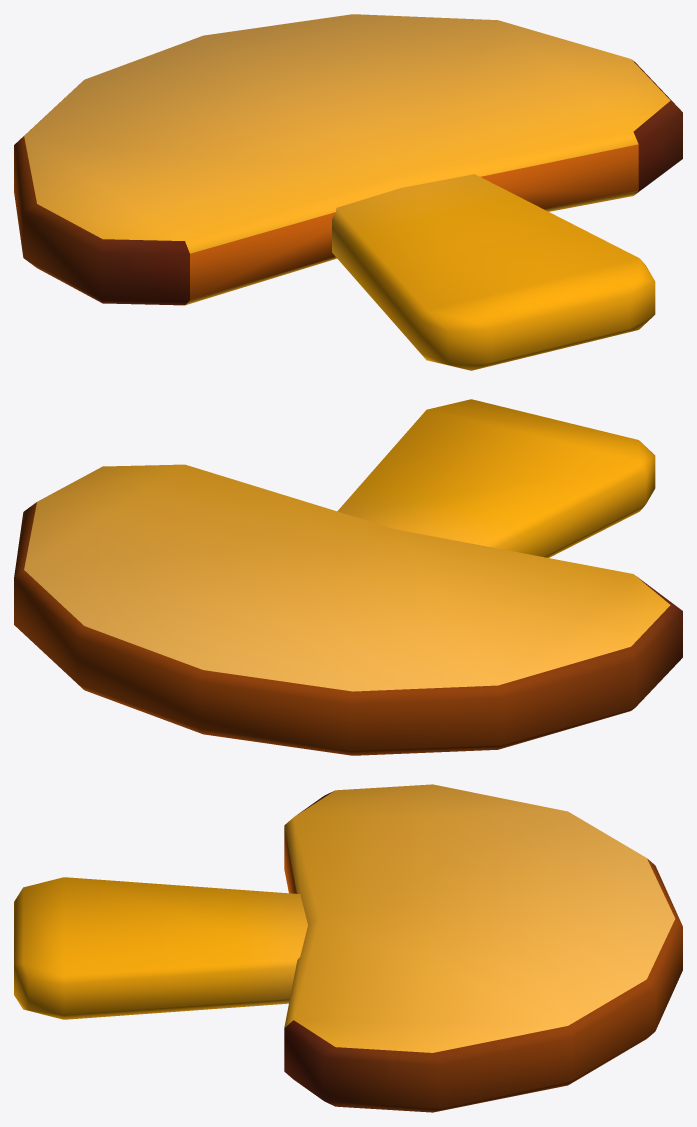
Rendered from Mushroom_slice_01.004.fbx.
3 renders of one model, top to bottom at view 1: azimuth 30°, elevation 25°; view 2: azimuth 150°, elevation 25°; view 3: azimuth 270°, elevation 25°, orthographic. The views are drawn at different scales.
Parts seen in each view (by area): view 1: Mushroom_slice_01.004; view 2: Mushroom_slice_01.004; view 3: Mushroom_slice_01.004.
Part boxes in pixels (<box>): Mushroom_slice_01.004: <box>14,14,682,370</box>; Mushroom_slice_01.004: <box>14,399,682,755</box>; Mushroom_slice_01.004: <box>14,784,682,1112</box>.
Bounding box in the file's own units: 43.36 × 44.31 × 4.35.
